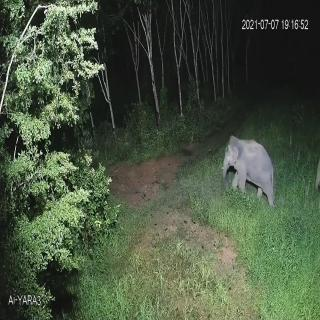Elephant: (221, 130, 278, 213)
